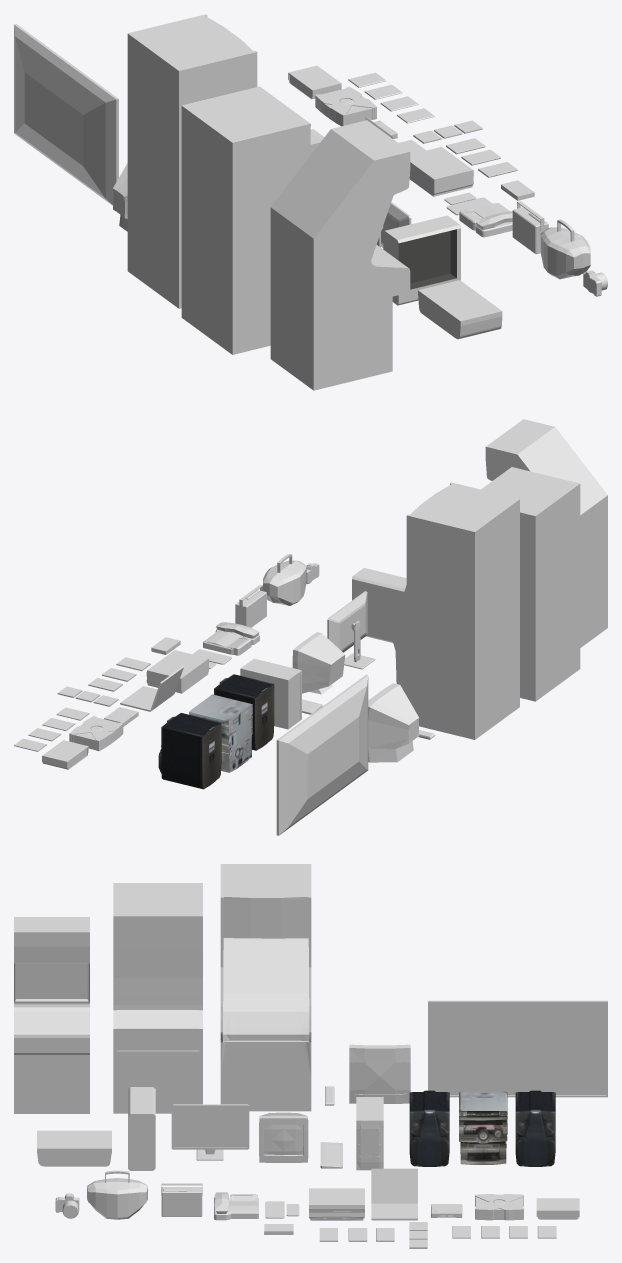
The model's file is Models.dae.
3 views of the same model, one above another, from view 1: azimuth 30°, elevation 25°; view 2: azimuth 150°, elevation 25°; view 3: azimuth 270°, elevation 25° (orthographic). The views are drawn at different scales.
Visible parts, largest first — view 1: arcade3, arcade2, arcade1, SmartTV, pcGaming, printer, VHSPlayer, oldStereo, Xbox, oldRadio, DVD, linePhone (+2 smaller); view 2: arcade1, arcade2, SmartTV, arcade3, oldSoundSystem2, oldTV, oldSoundSystem, pcGaming, oldMonitor, oldPC, oldSoundSystem2.001, oldStereo (+9 smaller); view 3: arcade1, arcade2, SmartTV, arcade3, monitor, oldSoundSystem, oldTV, oldSoundSystem2.001, oldSoundSystem2, printer, oldMonitor, pcGaming (+10 smaller).
Boxes of the visible parts, x1,y1,x2,y2 form: arcade3: [270, 120, 410, 390]; arcade2: [181, 86, 310, 354]; arcade1: [127, 14, 257, 308]; SmartTV: [14, 24, 118, 205]; pcGaming: [383, 215, 460, 305]; printer: [418, 280, 502, 339]; VHSPlayer: [409, 147, 473, 196]; oldStereo: [540, 219, 590, 279]; Xbox: [315, 86, 376, 126]; oldRadio: [512, 201, 548, 254]; DVD: [288, 65, 341, 99]; linePhone: [459, 203, 512, 237]; arcade1: [392, 482, 519, 739]; arcade2: [481, 467, 580, 701]; SmartTV: [276, 674, 368, 835]; arcade3: [485, 419, 607, 647]; oldSoundSystem2: [158, 713, 221, 789]; oldTV: [368, 683, 419, 762]; oldSoundSystem: [189, 694, 252, 772]; pcGaming: [352, 568, 406, 642]; oldMonitor: [292, 632, 345, 694]; oldPC: [240, 658, 301, 729]; oldSoundSystem2.001: [214, 674, 274, 750]; oldStereo: [263, 554, 306, 605]; arcade1: [220, 864, 311, 1111]; arcade2: [113, 883, 202, 1113]; SmartTV: [428, 1000, 607, 1097]; arcade3: [14, 917, 89, 1113]; monitor: [171, 1104, 249, 1149]; oldSoundSystem: [459, 1091, 507, 1164]; oldTV: [349, 1044, 410, 1103]; oldSoundSystem2.001: [409, 1090, 449, 1166]; oldSoundSystem2: [515, 1090, 555, 1166]; printer: [37, 1130, 111, 1166]; oldMonitor: [259, 1112, 308, 1162]; pcGaming: [128, 1087, 155, 1170].
Size of the model in its own units: 37.61 by 52.59 by 20.45.
